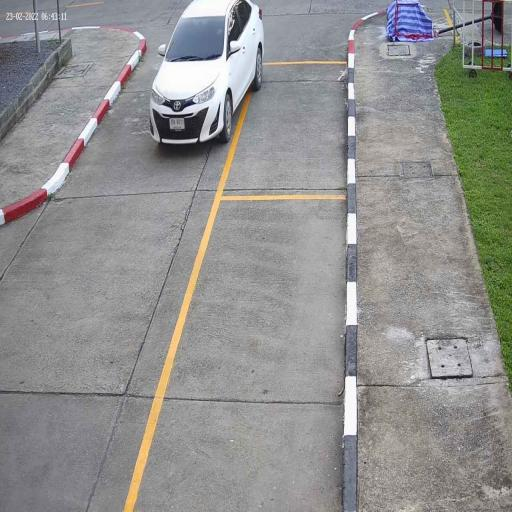car: (149, 0, 265, 148)
